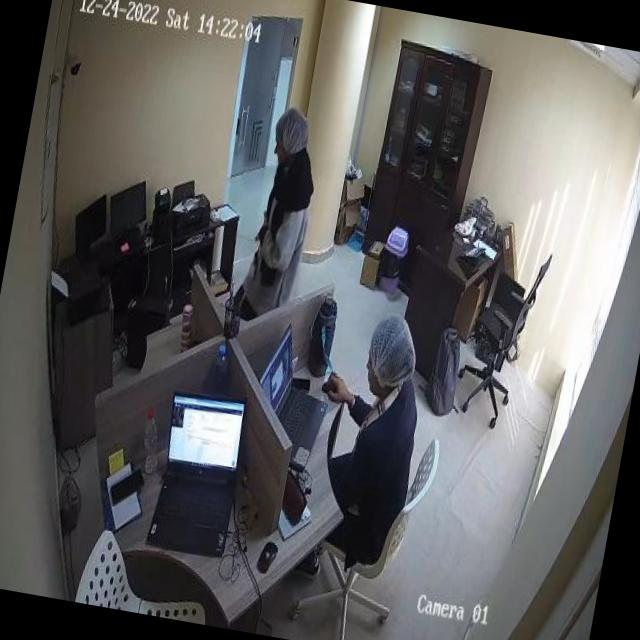hairnet: (366, 316, 416, 384), (274, 104, 312, 146)
